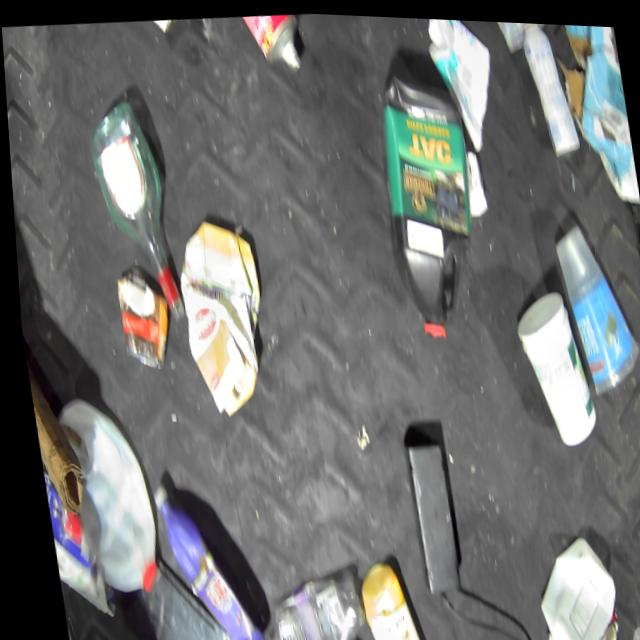can: (108, 262, 174, 372), (582, 616, 611, 640)
milk_jug: (46, 392, 158, 598), (523, 527, 616, 640)
non_white_jug: (367, 62, 492, 343), (144, 473, 258, 640), (349, 556, 420, 640)
plastic_bottle: (248, 564, 361, 640)
